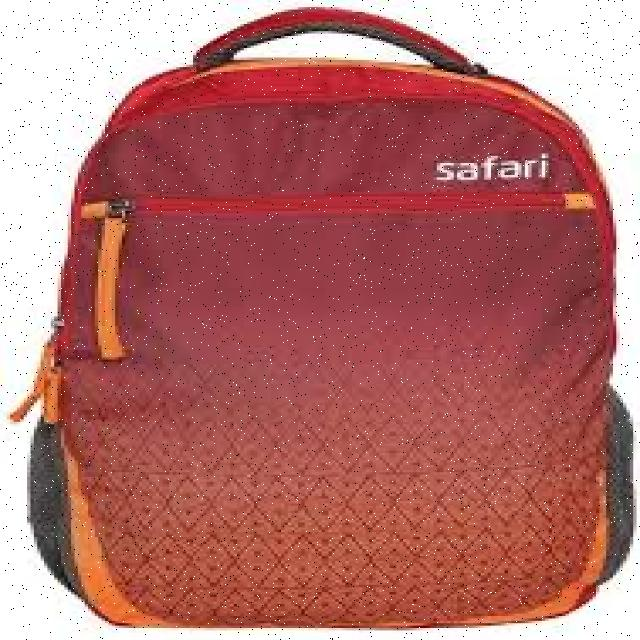backpack: (10, 5, 633, 628)
